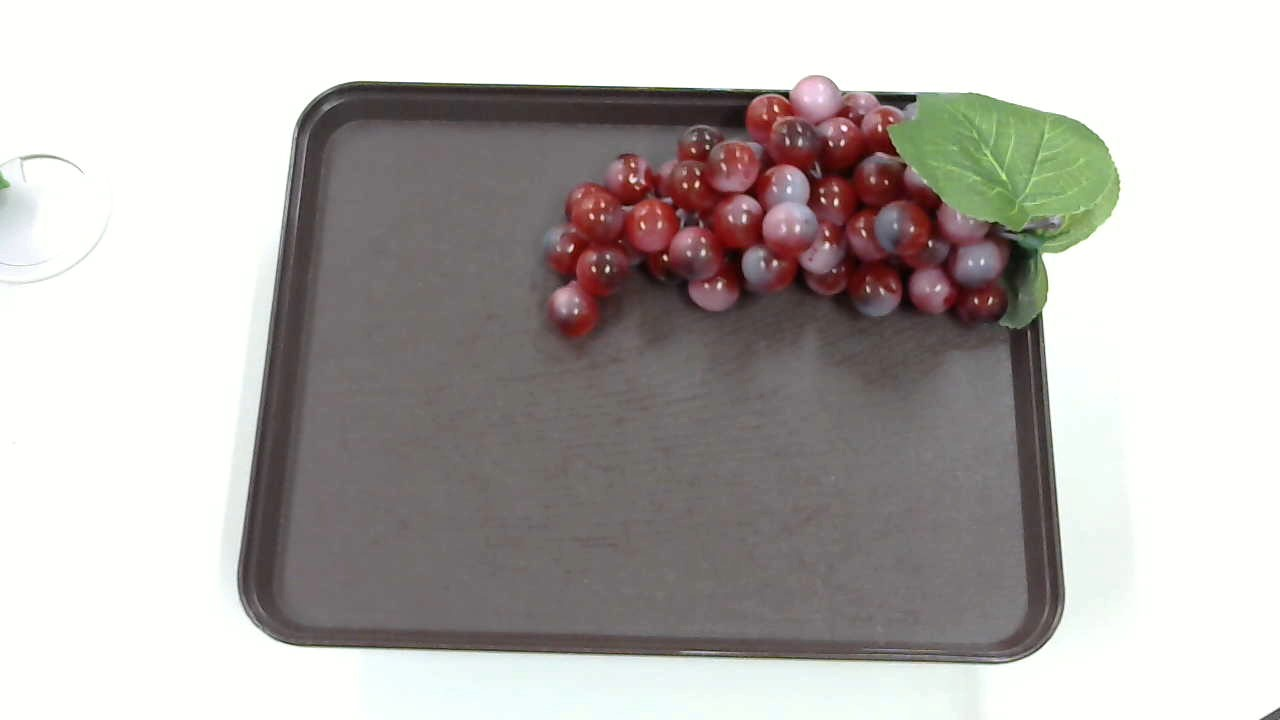grape: (529, 74, 1134, 371)
